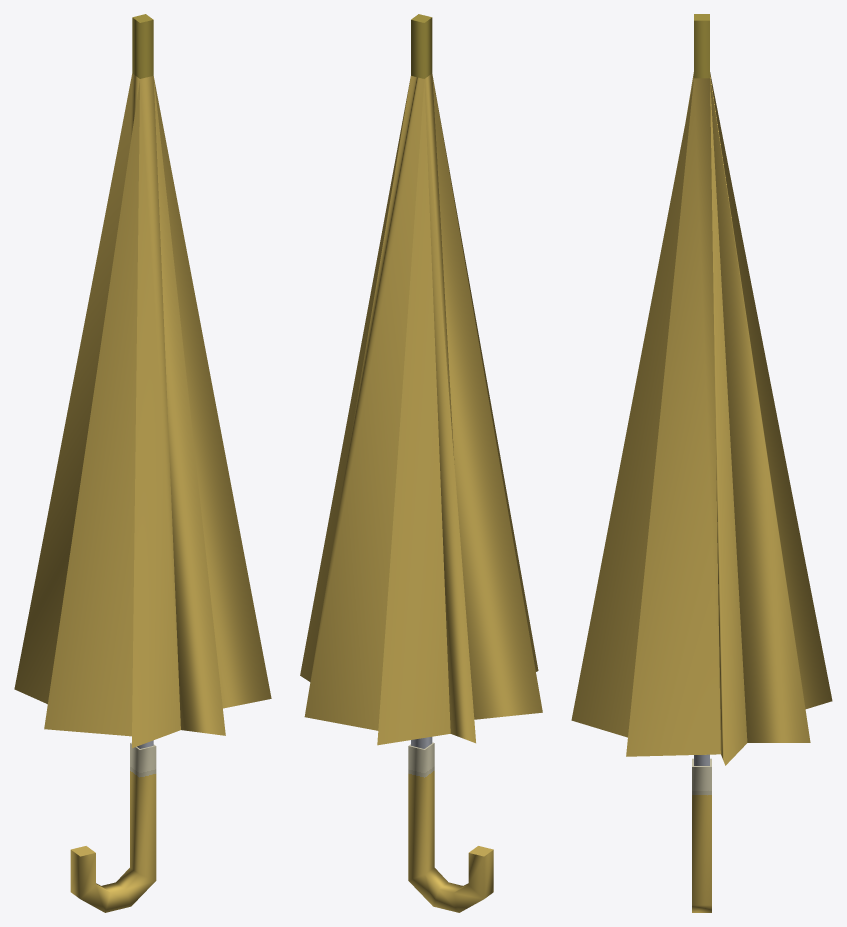
The model's file is 051f_Kids_Umbrella.glb.
3 views of the same model, side by side, from view 1: azimuth 30°, elevation 25°; view 2: azimuth 150°, elevation 25°; view 3: azimuth 270°, elevation 25° (orthographic). The views are drawn at different scales.
Visible parts, largest first — view 1: part_0; view 2: part_0; view 3: part_0.
Boxes of the visible parts, x1=… form: part_0: x1=14, y1=14, x2=271, y2=912; part_0: x1=300, y1=14, x2=542, y2=912; part_0: x1=571, y1=14, x2=832, y2=912.
Size of the model in its own units: 0.2591 by 0.9899 by 0.2592.
Materials: 1 (1 with a texture image).
